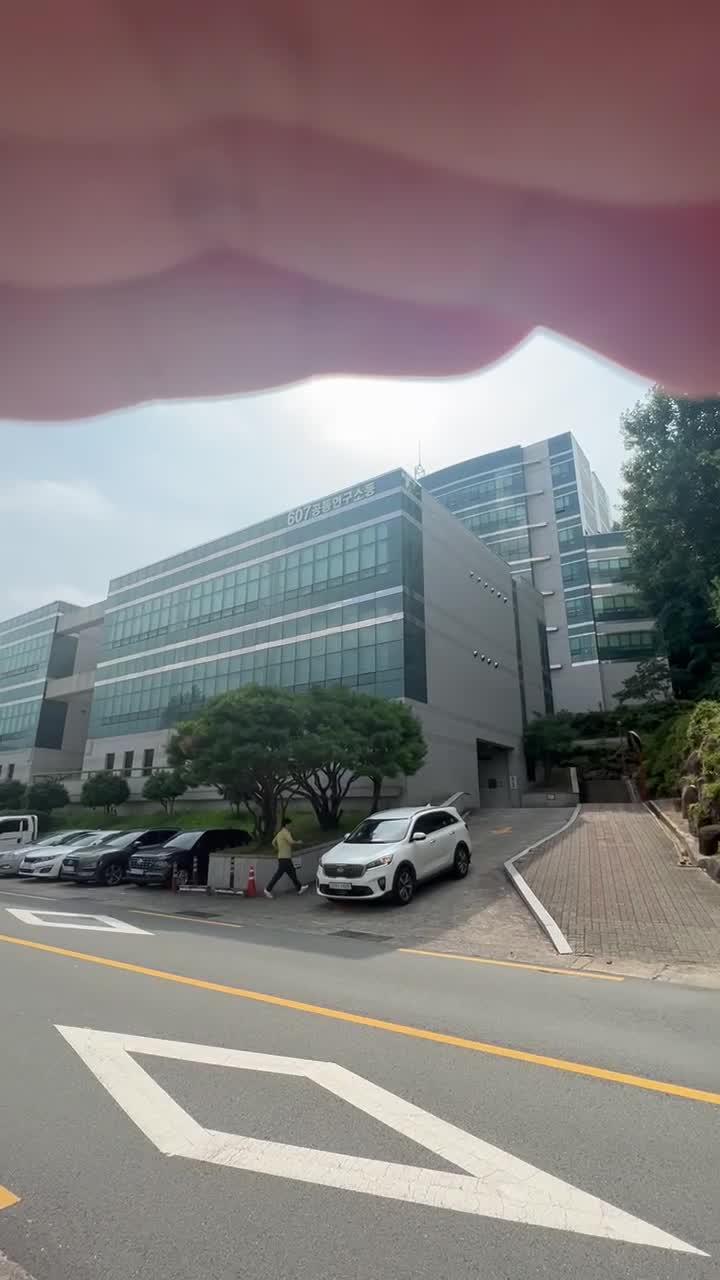low: (28, 434, 640, 708)
